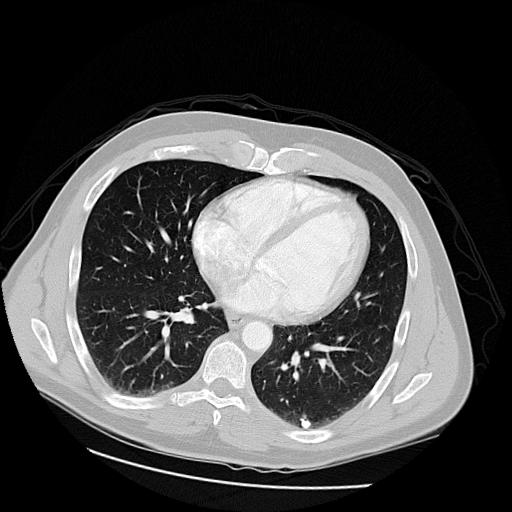nodule: (299, 417, 314, 432)
